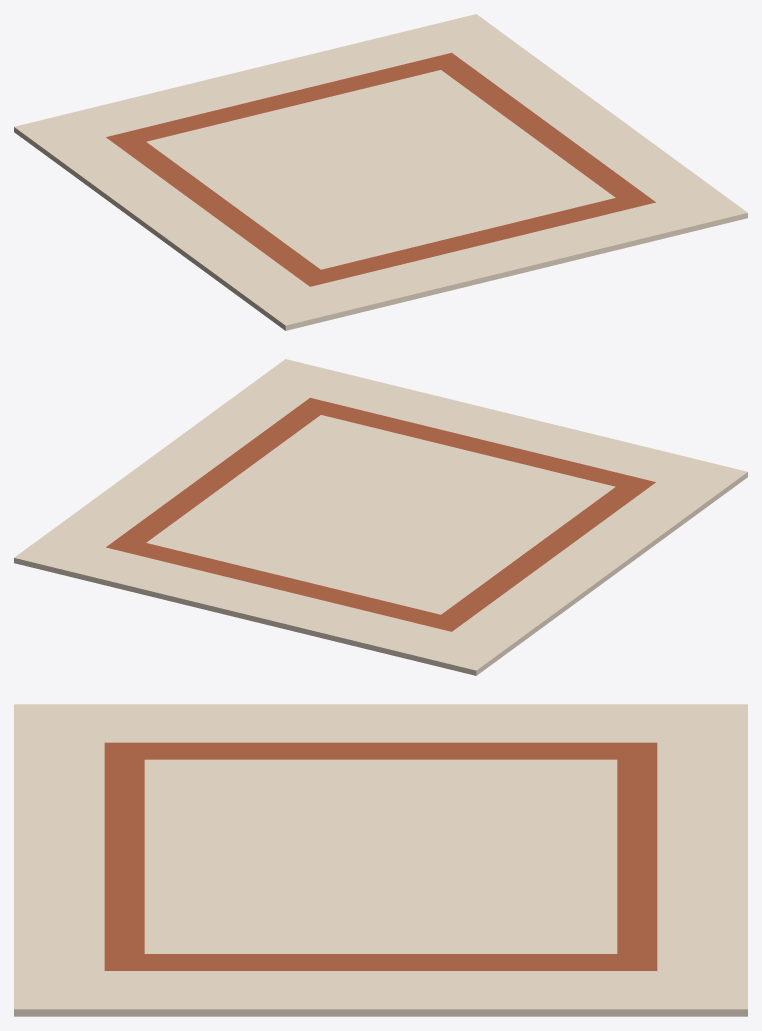
The model's file is kitRugSquare.glb.
3 renders of one model, top to bottom at view 1: azimuth 30°, elevation 25°; view 2: azimuth 150°, elevation 25°; view 3: azimuth 270°, elevation 25°, orthographic. The views are drawn at different scales.
Parts seen in each view (by area): view 1: kitRugSquare_fabric, kitRugSquare_fabricDark; view 2: kitRugSquare_fabric, kitRugSquare_fabricDark; view 3: kitRugSquare_fabric, kitRugSquare_fabricDark.
Part boxes in pixels (x1,y1,x2,y2): kitRugSquare_fabric: [14, 14, 747, 330]; kitRugSquare_fabricDark: [106, 52, 655, 286]; kitRugSquare_fabric: [14, 359, 747, 675]; kitRugSquare_fabricDark: [106, 397, 655, 631]; kitRugSquare_fabric: [14, 704, 747, 1016]; kitRugSquare_fabricDark: [104, 742, 657, 970].
Bounding box in the file's own units: 1.81 × 0.02 × 1.84.
